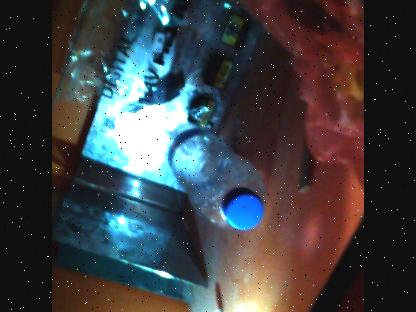Plastic Bottle: (160, 110, 268, 242)
